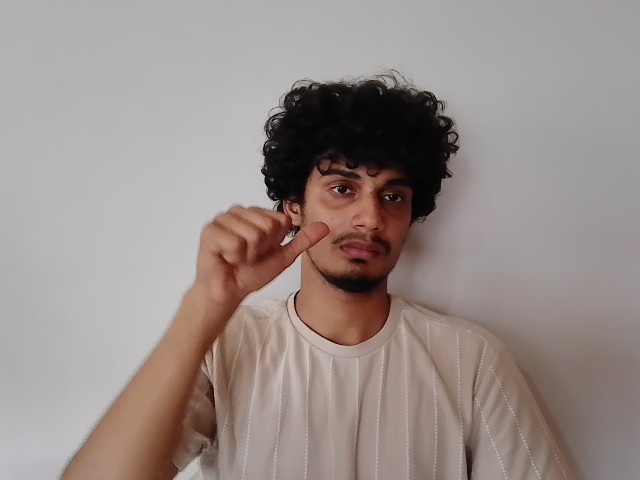drink: (195, 160, 422, 299)
